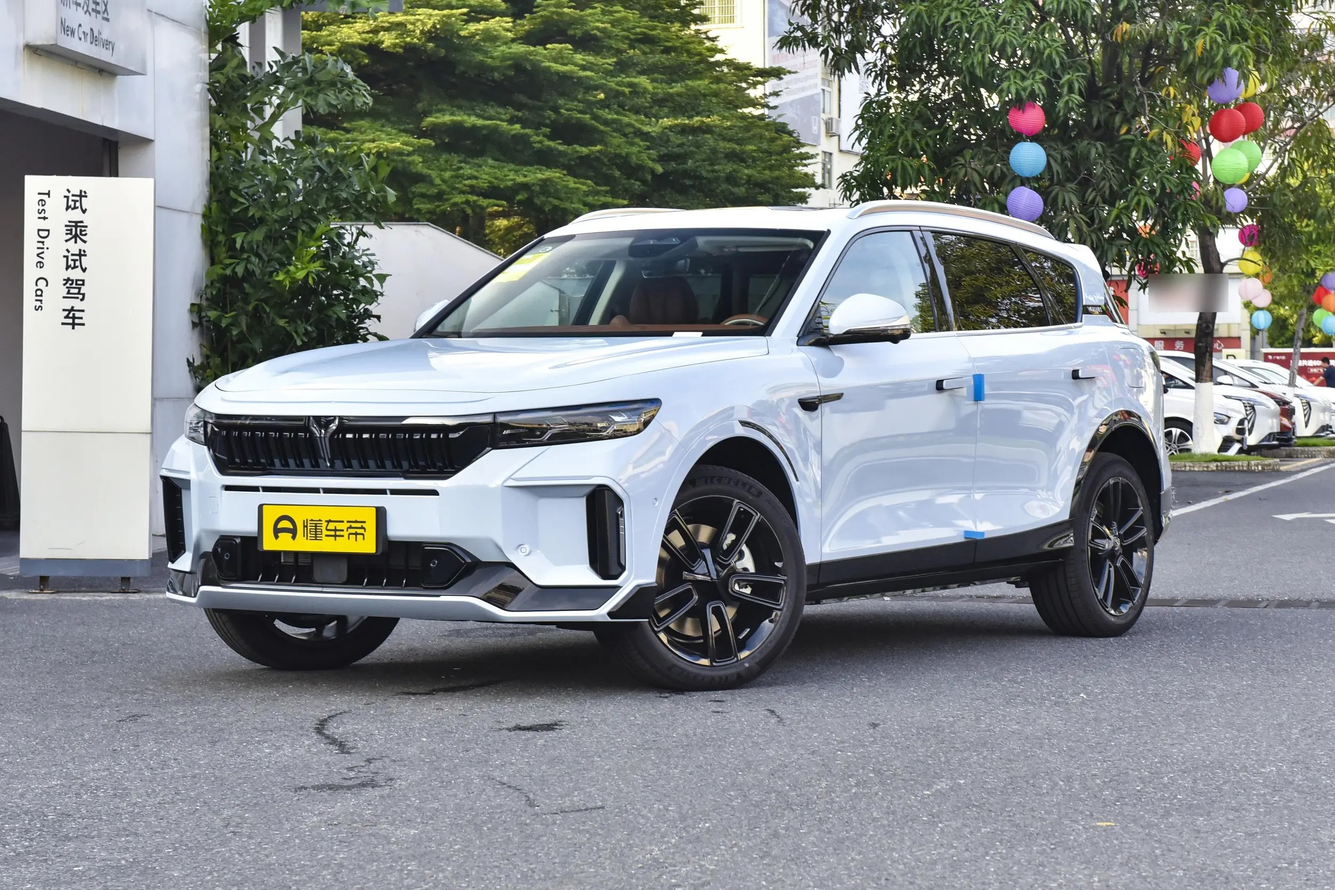VOYAH: (309, 417, 337, 466)
